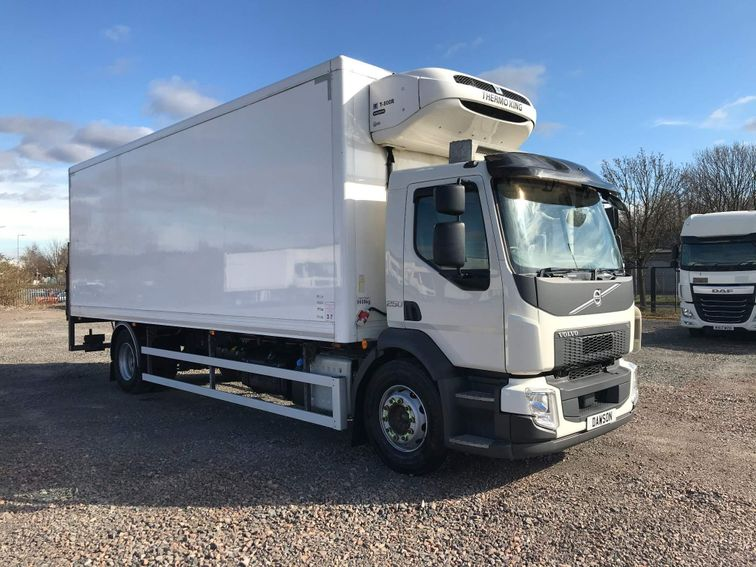Semi: (66, 54, 642, 476), (674, 208, 755, 338)
